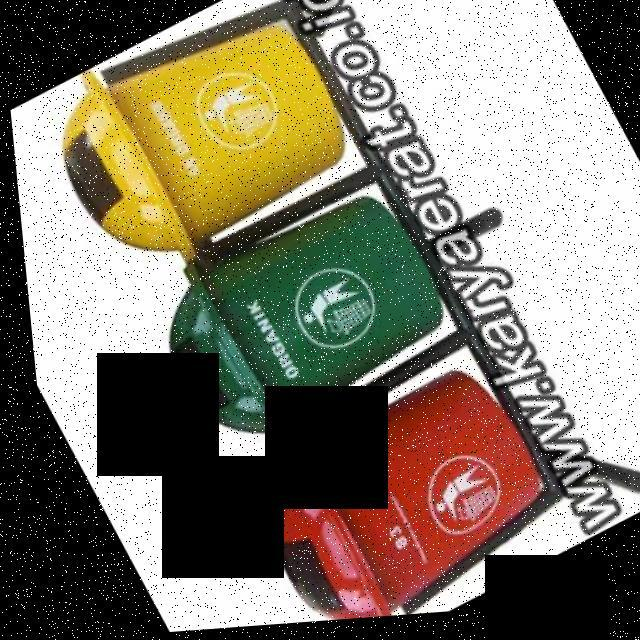bin: (189, 332, 566, 631), (3, 0, 374, 291), (109, 162, 464, 463)
